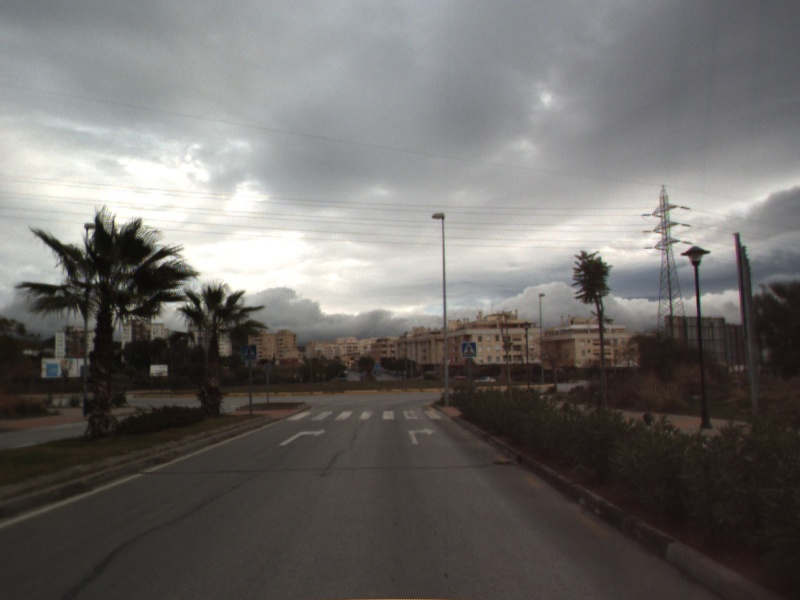RIGHT: (277, 426, 327, 447), (406, 425, 437, 446)
